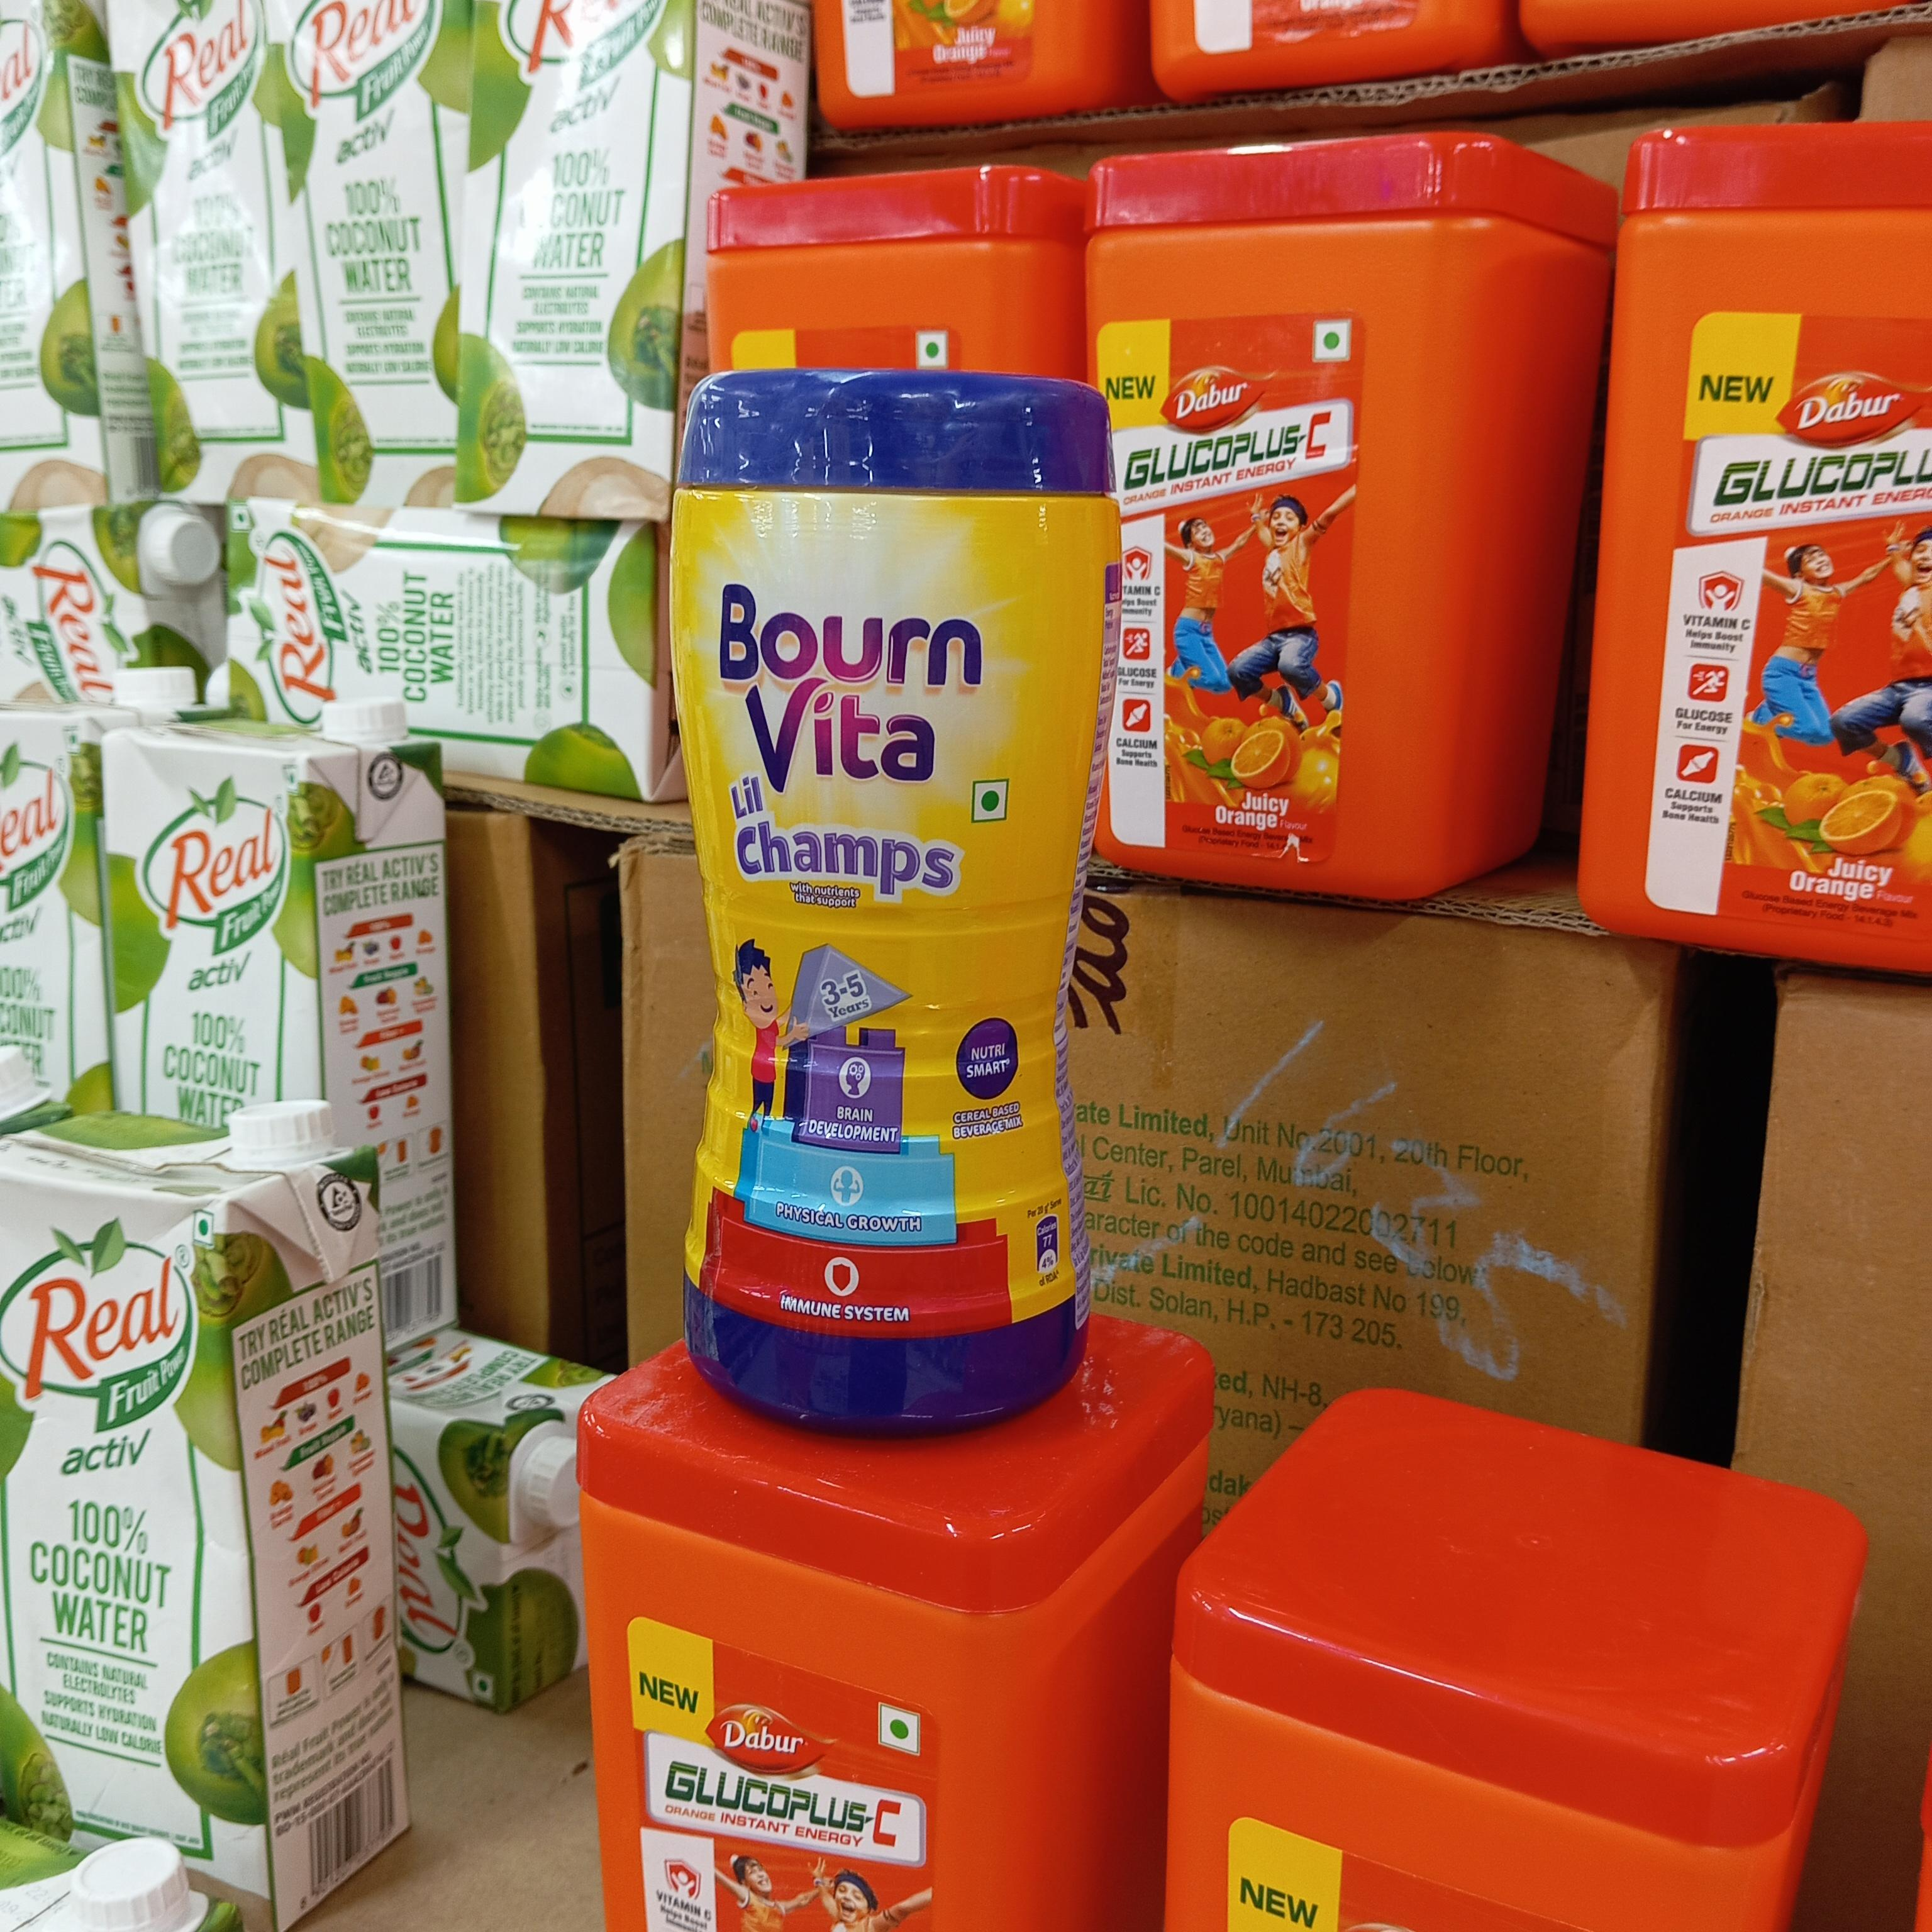BOURN_VITA_CHAMPS_500_G_JAR: (669, 359, 1072, 1437)
